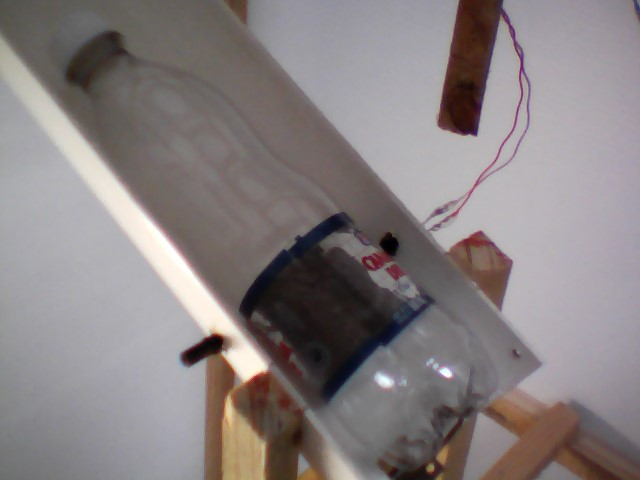plastico: (45, 9, 501, 475)
